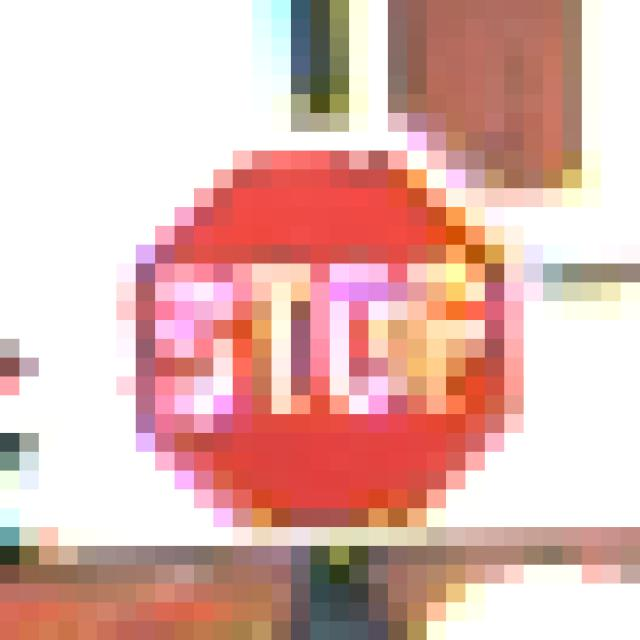STOP: (98, 95, 544, 547)
